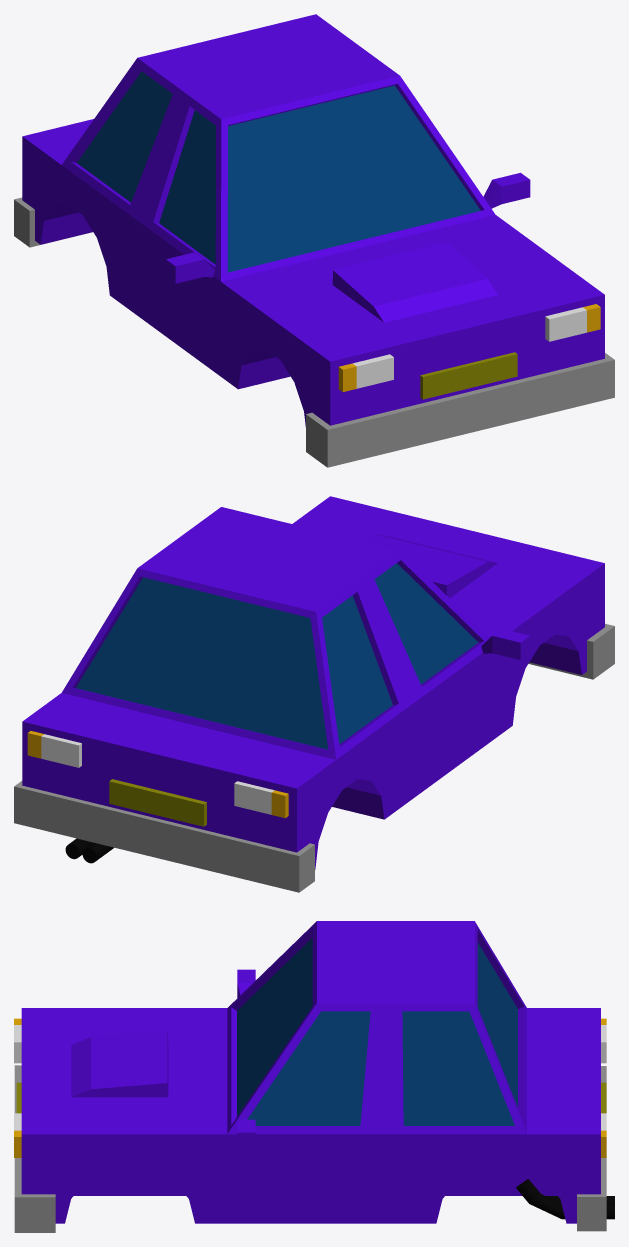
File: car.glb
The picture shows the model from 3 angles, top to bottom: view 1: azimuth 30°, elevation 25°; view 2: azimuth 150°, elevation 25°; view 3: azimuth 270°, elevation 25°; orthographic projection. The views are drawn at different scales.
Parts seen in each view (by area): view 1: Cube, Cube.001, Cube.003, Cube.002; view 2: Cube, Cube.005, Cube.004, Cube.002; view 3: Cube, Cube.002, Cylinder.004, Cube.001, Cube.005.
Part boxes in pixels (x1,y1,x2,y2): Cube: (14,14,614,467); Cube.001: (338,304,600,391); Cube.003: (420,352,517,399); Cube.002: (166,172,530,283); Cube: (14,496,614,892); Cube.005: (27,731,288,818); Cube.004: (109,779,206,826); Cube.002: (481,629,530,659); Cube: (14,921,606,1232); Cube.002: (237,969,255,1148); Cylinder.004: (516,1179,614,1219); Cube.001: (14,1018,21,1157); Cube.005: (601,1018,606,1157).
Bounding box in the file's own units: 4.85 × 3.05 × 7.56.
